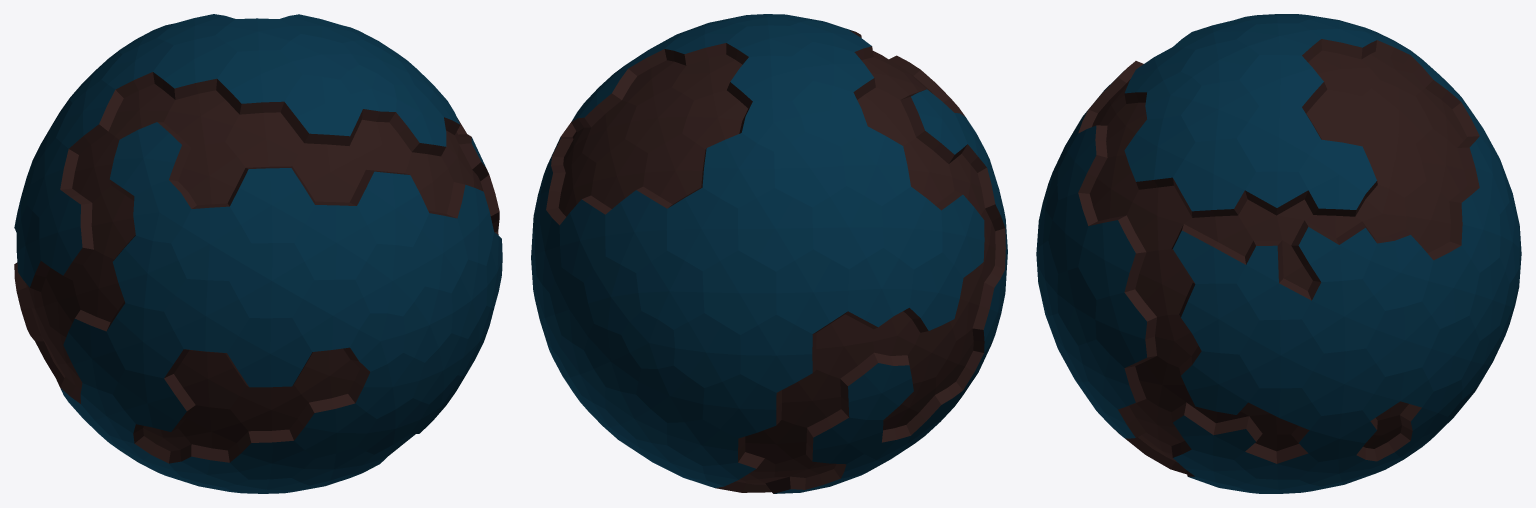
Rendered from Planet1Evo2.glb.
The picture shows the model from 3 angles, left to right: view 1: azimuth 30°, elevation 25°; view 2: azimuth 150°, elevation 25°; view 3: azimuth 270°, elevation 25°; orthographic projection.
Parts seen in each view (by area): view 1: Icosphere.017; view 2: Icosphere.017; view 3: Icosphere.017.
Part boxes in pixels (x1=…): Icosphere.017: x1=14, y1=14, x2=502, y2=493; Icosphere.017: x1=531, y1=14, x2=1007, y2=493; Icosphere.017: x1=1036, y1=14, x2=1521, y2=493.
Bounding box in the file's own units: 1.8 × 1.81 × 1.83.
